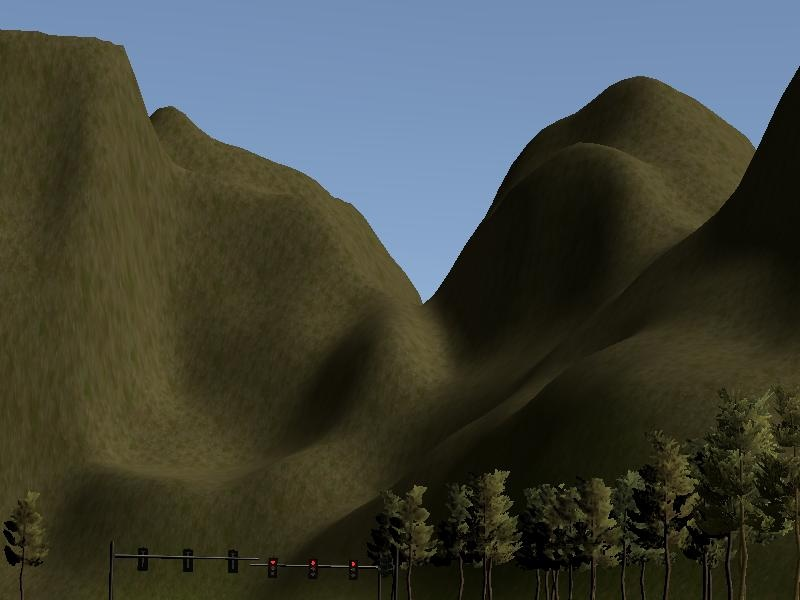red: (346, 554, 359, 583), (308, 554, 318, 581), (267, 557, 278, 581)
